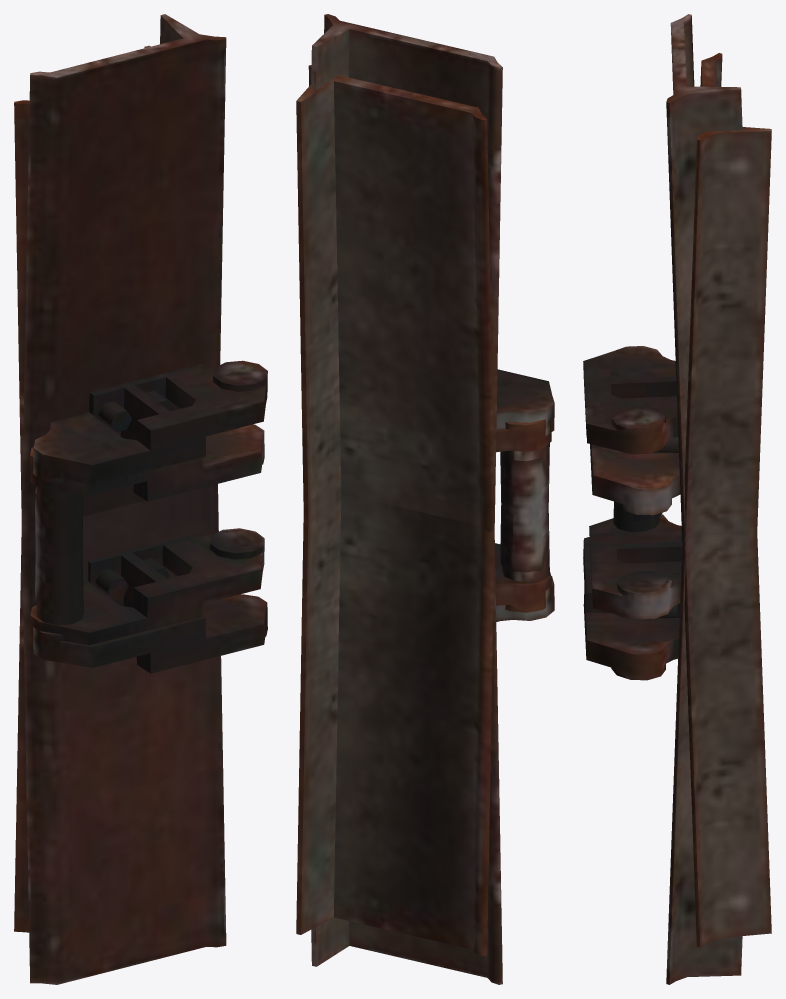
File: tread_units.glb
3 views of the same model, side by side, from view 1: azimuth 30°, elevation 25°; view 2: azimuth 150°, elevation 25°; view 3: azimuth 270°, elevation 25° (orthographic). The views are drawn at different scales.
Visible parts, largest first — view 1: TreadUnit_L, TreadUnit_R; view 2: TreadUnit_L, TreadUnit_R; view 3: TreadUnit_L, TreadUnit_R.
Boxes of the visible parts, bbox=[...] form: TreadUnit_L: bbox=[14, 14, 267, 932]; TreadUnit_R: bbox=[14, 45, 267, 984]; TreadUnit_L: bbox=[296, 14, 554, 955]; TreadUnit_R: bbox=[296, 65, 554, 984]; TreadUnit_L: bbox=[583, 14, 771, 946]; TreadUnit_R: bbox=[583, 53, 771, 984].
Bounding box in the file's own units: 0.2382 × 0.9105 × 0.1757.
Materials: 1 (1 with a texture image).
